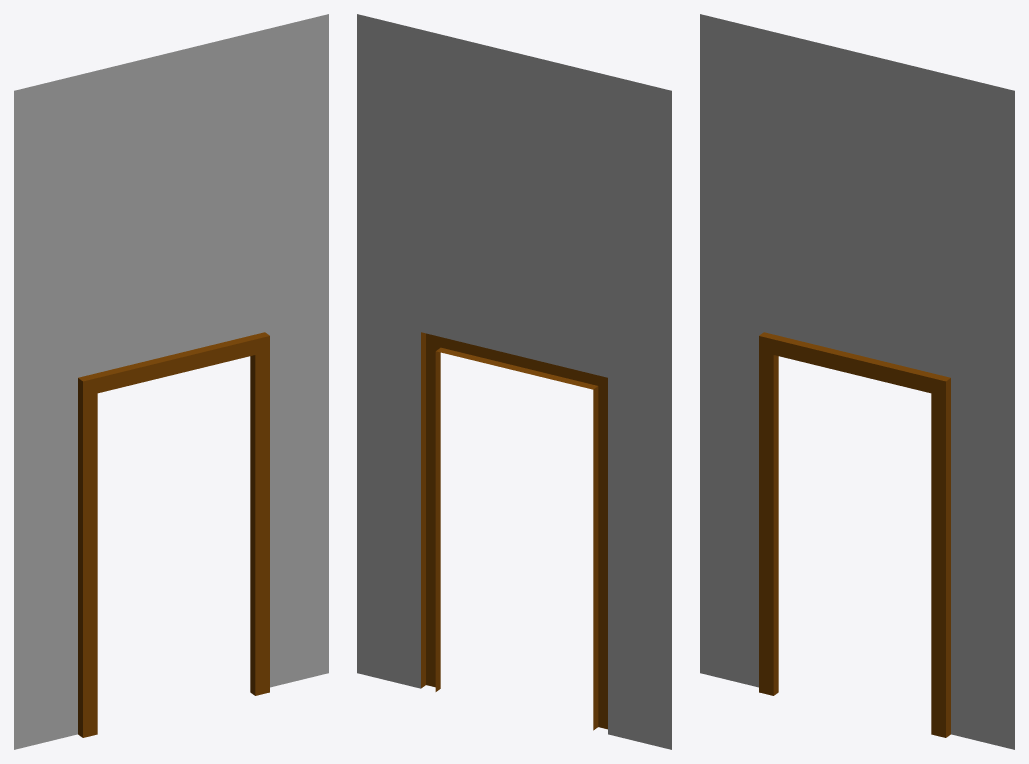
Rendered from mesh_wall_doorframe.fbx.
3 views of the same model, side by side, from view 1: azimuth 30°, elevation 25°; view 2: azimuth 150°, elevation 25°; view 3: azimuth 330°, elevation 25° (orthographic).
Visible parts, largest first — view 1: mesh_wall_doorframe; view 2: mesh_wall_doorframe; view 3: mesh_wall_doorframe.
Boxes of the visible parts, <box> form: mesh_wall_doorframe: <box>14,14,328,749</box>; mesh_wall_doorframe: <box>357,14,671,749</box>; mesh_wall_doorframe: <box>700,14,1014,749</box>.
Bounding box in the file's own units: 2 × 4 × 0.0556.
